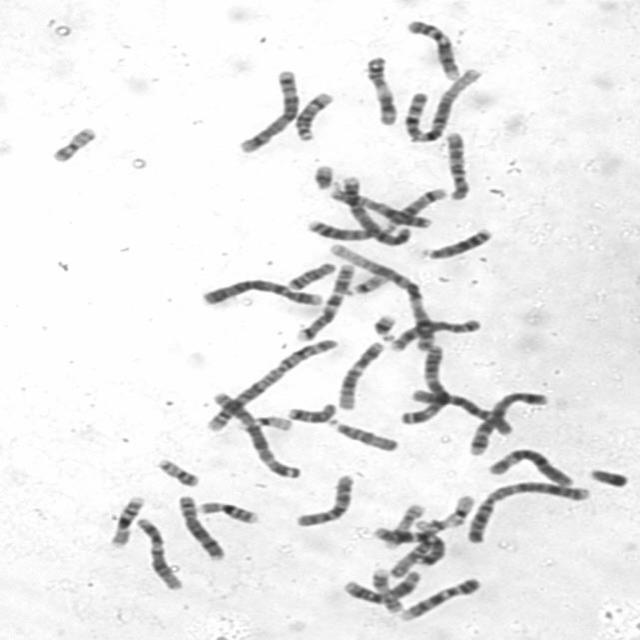A1: (328, 243, 436, 351), (404, 67, 484, 142)
A2: (206, 338, 340, 432), (468, 481, 591, 543)
A3: (212, 392, 302, 479), (401, 344, 452, 424)
B4: (342, 176, 412, 246), (202, 278, 322, 306)
B5: (468, 391, 548, 458), (240, 70, 302, 153)
C10: (296, 474, 356, 527), (444, 132, 470, 201)
C11: (344, 570, 422, 603), (366, 57, 398, 126)
C12: (329, 188, 434, 228), (136, 517, 184, 591)
C6: (410, 388, 514, 436), (488, 448, 573, 488)
C7: (296, 262, 356, 342), (372, 526, 446, 565)
C8: (178, 494, 225, 562), (390, 318, 482, 352)
C9: (398, 578, 482, 621), (407, 19, 462, 81)
D13: (420, 227, 494, 259), (306, 219, 384, 240)
D14: (382, 187, 448, 235), (294, 92, 334, 142)
D15: (328, 417, 398, 452), (388, 534, 438, 578)
E16: (110, 496, 146, 548), (198, 501, 260, 524)
E17: (384, 504, 428, 550), (370, 569, 404, 614)
E18: (286, 261, 338, 291), (288, 403, 338, 423)
F19: (444, 495, 476, 527), (414, 514, 456, 533)
F20: (53, 127, 98, 162), (156, 458, 198, 487)
G21: (372, 313, 398, 343), (250, 414, 290, 431)
G22: (339, 273, 392, 296), (314, 165, 334, 191)
X: (338, 341, 386, 411)
Y: (587, 468, 628, 488)
